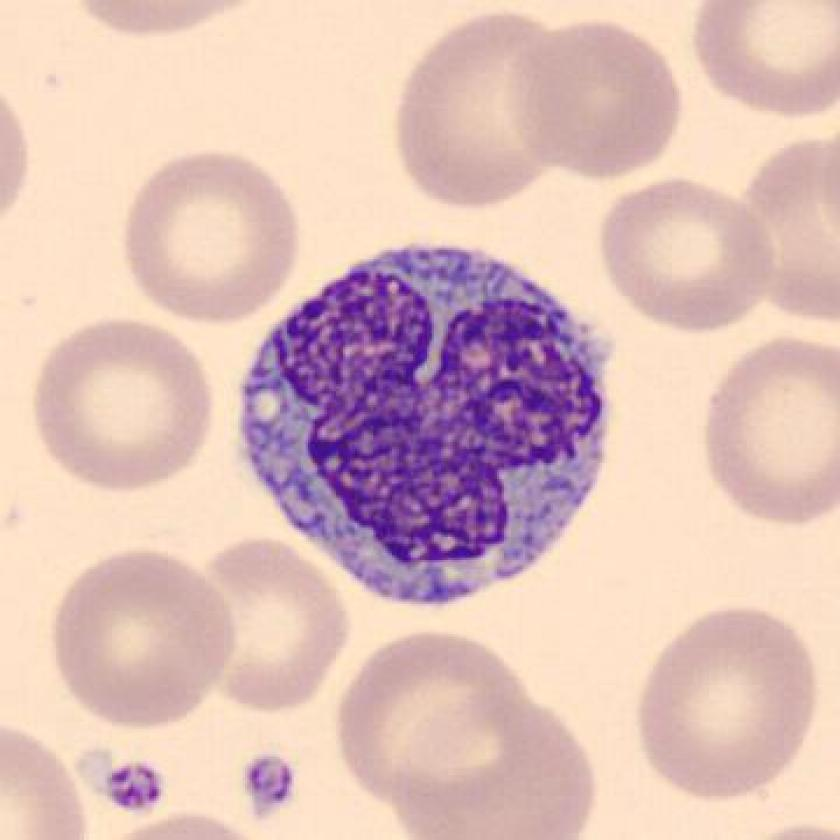monocyte: (220, 223, 631, 626)
